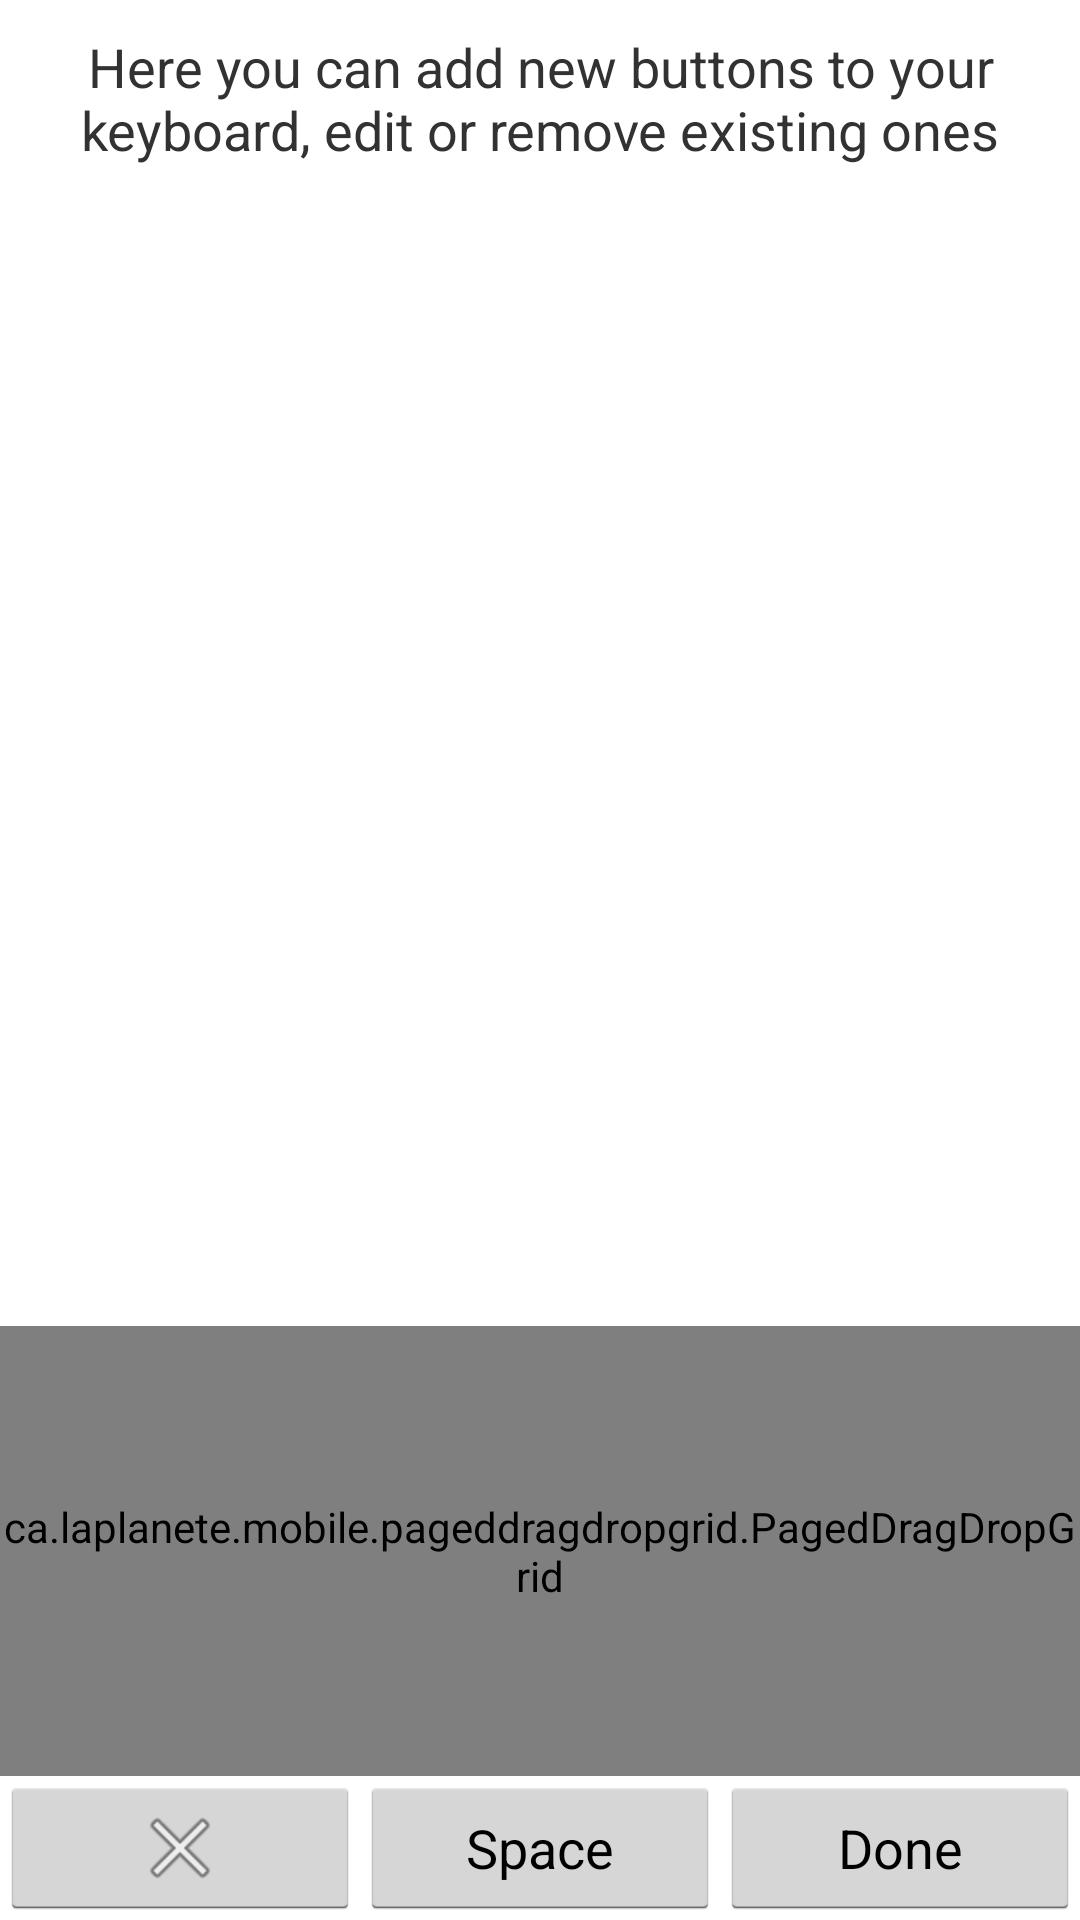

Icon click points for this 1080 x 1920 phone screenshot, format (x,y):
close clear cancel: (180,1849)
